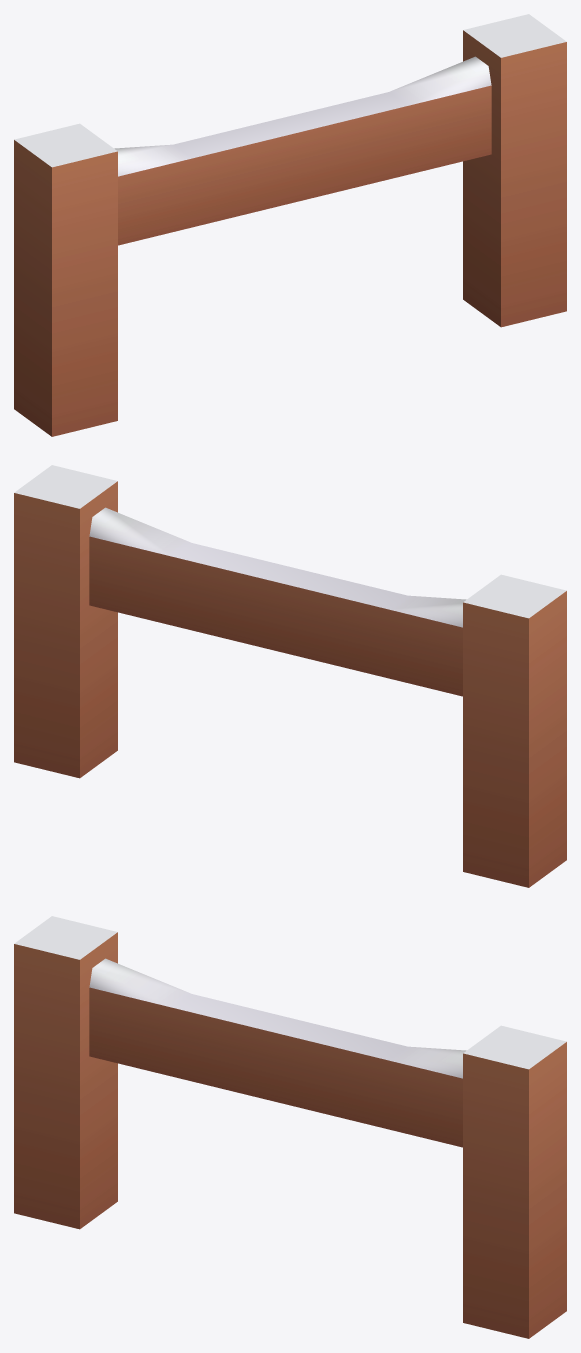
Rendered from kenney-tower-defense-snow-wood-structure-part.glb.
The picture shows the model from 3 angles, top to bottom: view 1: azimuth 30°, elevation 25°; view 2: azimuth 150°, elevation 25°; view 3: azimuth 330°, elevation 25°; orthographic projection.
Parts seen in each view (by area): view 1: snow-wood-structure-part; view 2: snow-wood-structure-part; view 3: snow-wood-structure-part.
Boxes of the visible parts, left/top/right/bottom form: snow-wood-structure-part: left=14, top=14, right=566, bottom=436; snow-wood-structure-part: left=14, top=465, right=566, bottom=887; snow-wood-structure-part: left=14, top=916, right=566, bottom=1338.
Size of the model in its own units: 1 by 0.5001 by 0.1279.
Materials: 1 (1 with a texture image).
